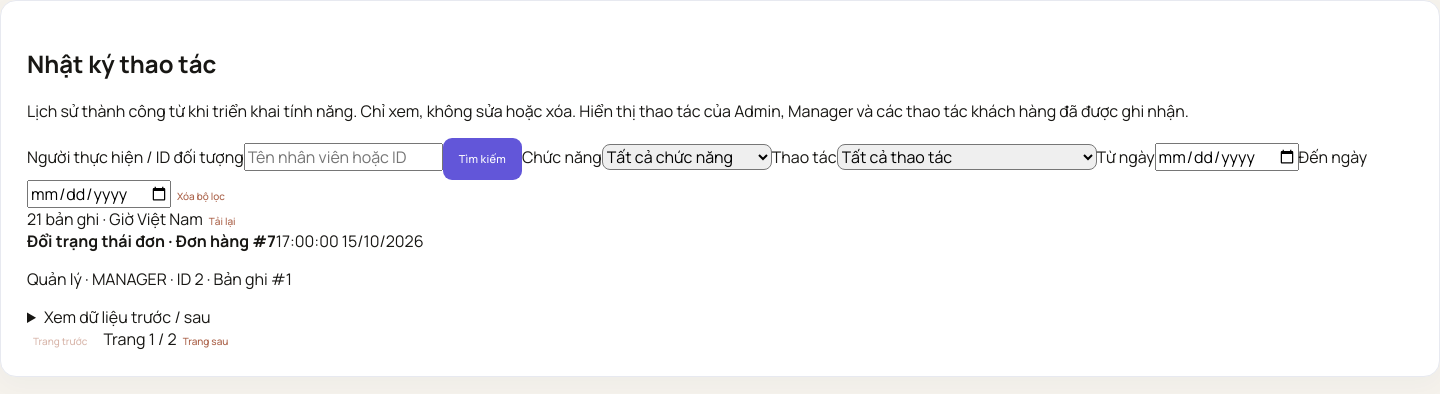
shows before/after, filters before pagination and restores URL
Expected: the text "Đổi trạng thái đơn · Đơn hàng #7" is shown, 27,230 -> 276,252
Click the button "Trang sau" at (205, 341), box 177,333 -> 234,349
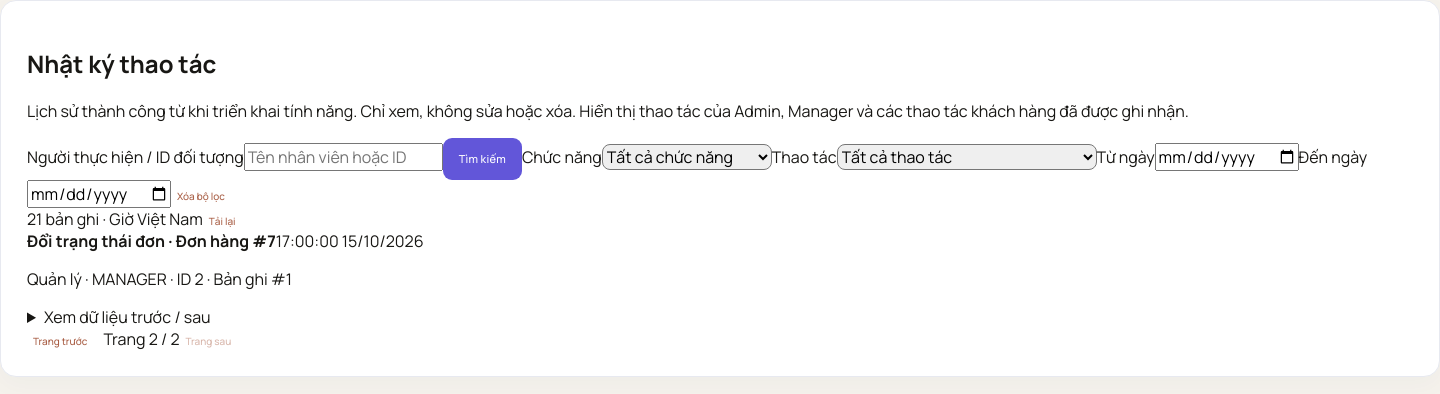
Select "Sản phẩm" in the dropdown labelled "Chức năng" at (687, 157), box 602,144 -> 772,170
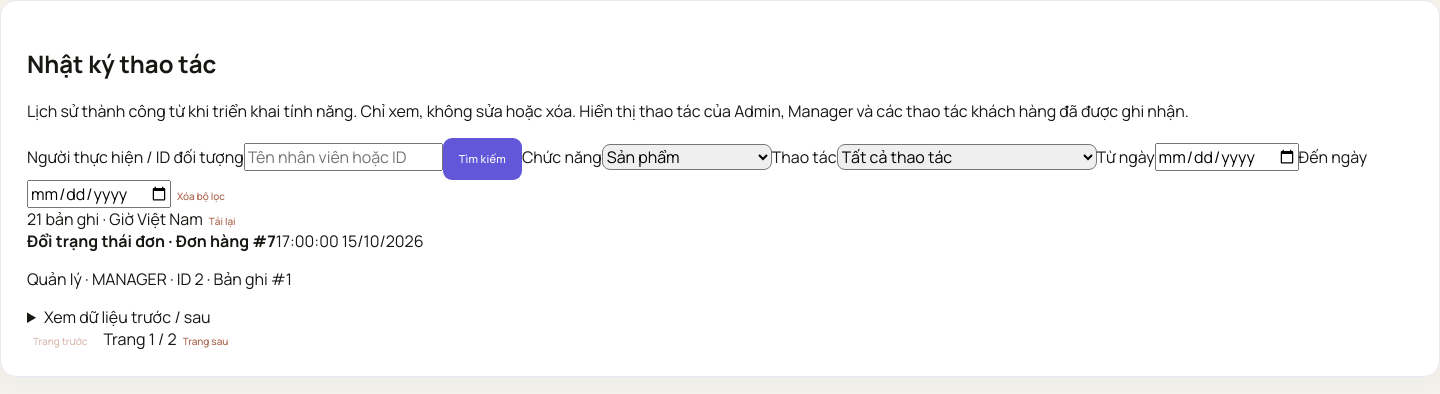
Type "Quản lý" into the field named "Tìm nhật ký" at (343, 157), box 244,143 -> 443,171
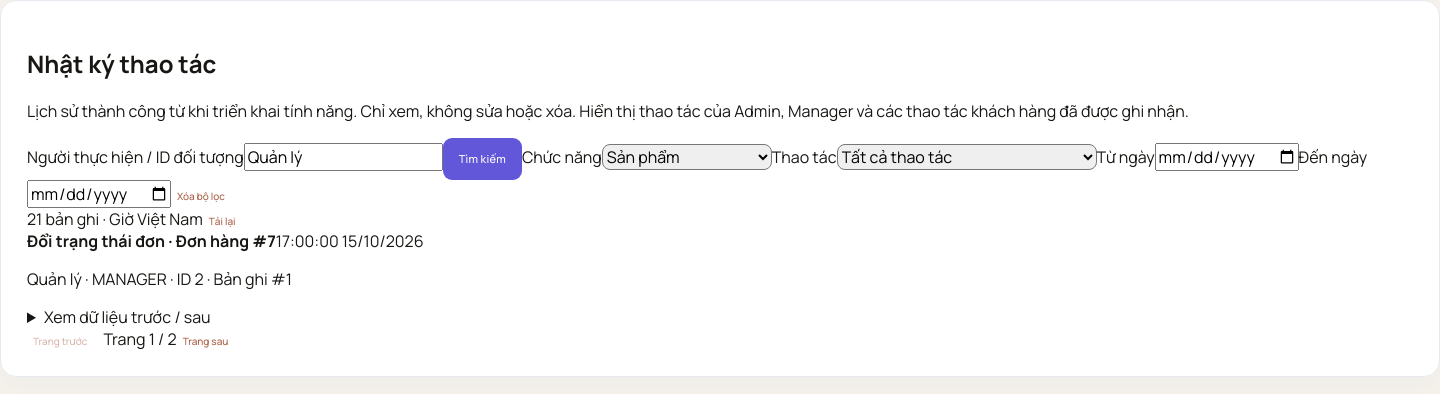
Click the button "Tìm kiếm" at (482, 159), box 443,138 -> 522,180
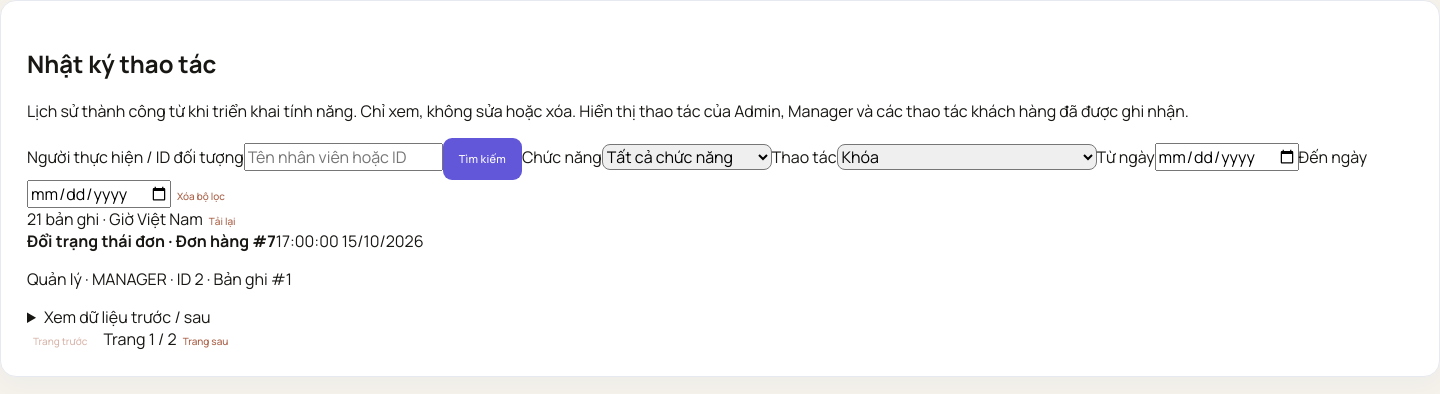
Expected: the dropdown labelled "Thao tác" shows "Khóa", 836,144 -> 1096,170
